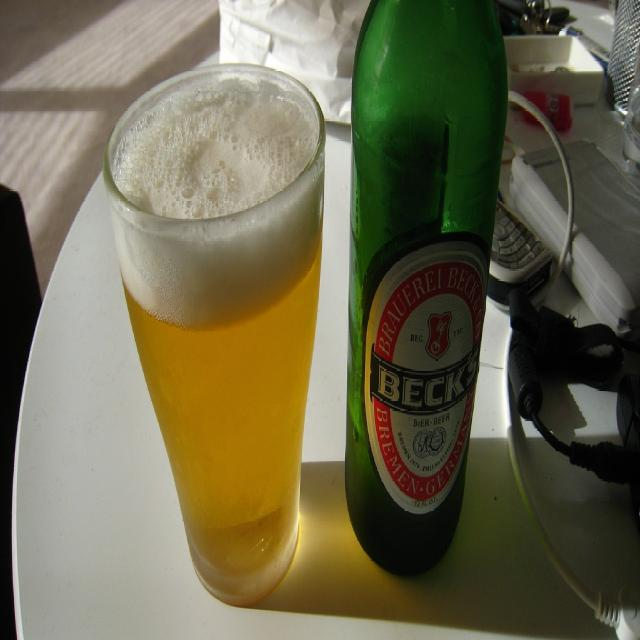becks: (364, 242, 489, 517)
